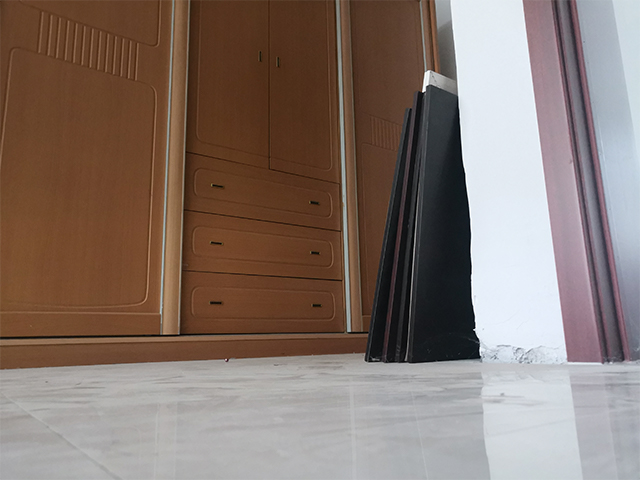cabinet: (1, 1, 441, 371)
